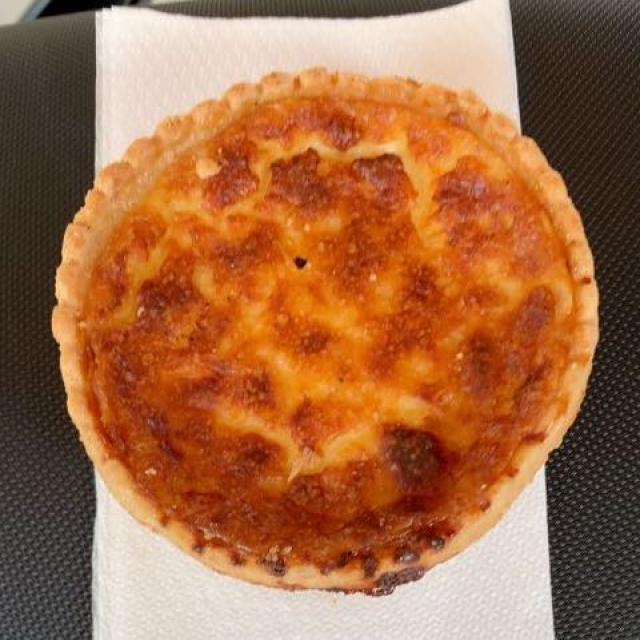quiche: (71, 74, 582, 578)
